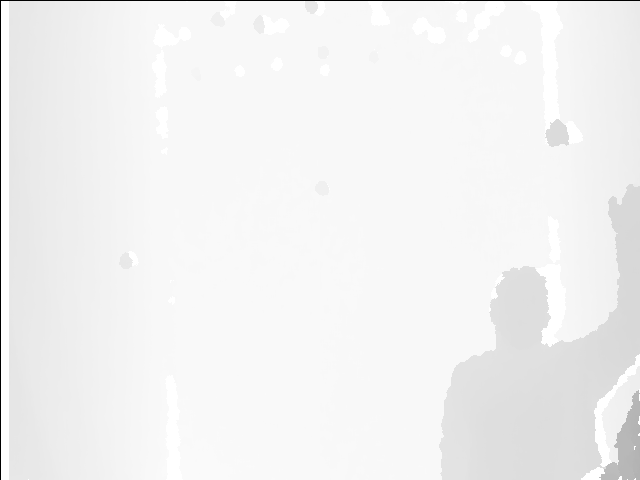hand: (607, 172, 640, 238)
